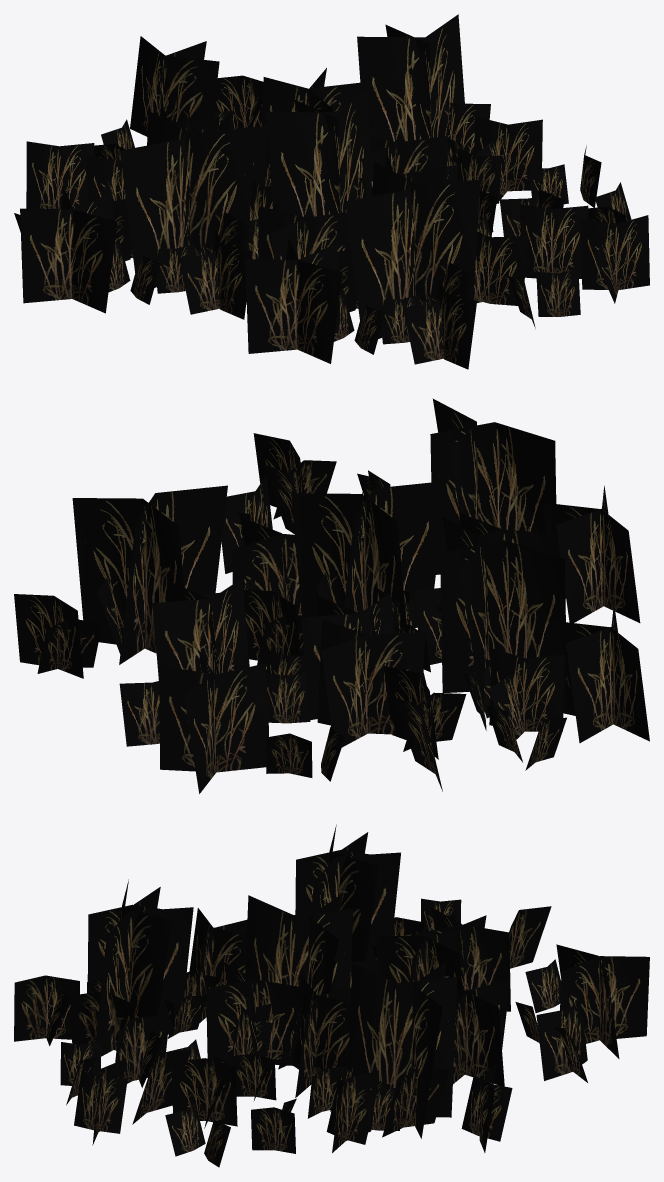
Rendered from gras.obj.
3 views of the same model, one above another, from view 1: azimuth 30°, elevation 25°; view 2: azimuth 150°, elevation 25°; view 3: azimuth 270°, elevation 25° (orthographic). The views are drawn at different scales.
Visible parts, largest first — view 1: gras_long:gras_long; view 2: gras_long:gras_long; view 3: gras_long:gras_long.
Boxes of the visible parts, box(x1,y1,x2,y2) form: gras_long:gras_long: box(14, 14, 649, 369); gras_long:gras_long: box(14, 398, 649, 793); gras_long:gras_long: box(14, 824, 649, 1167).
Bounding box in the file's own units: 6.5 × 1.62 × 6.93.
Materials: 1 (1 with a texture image).
